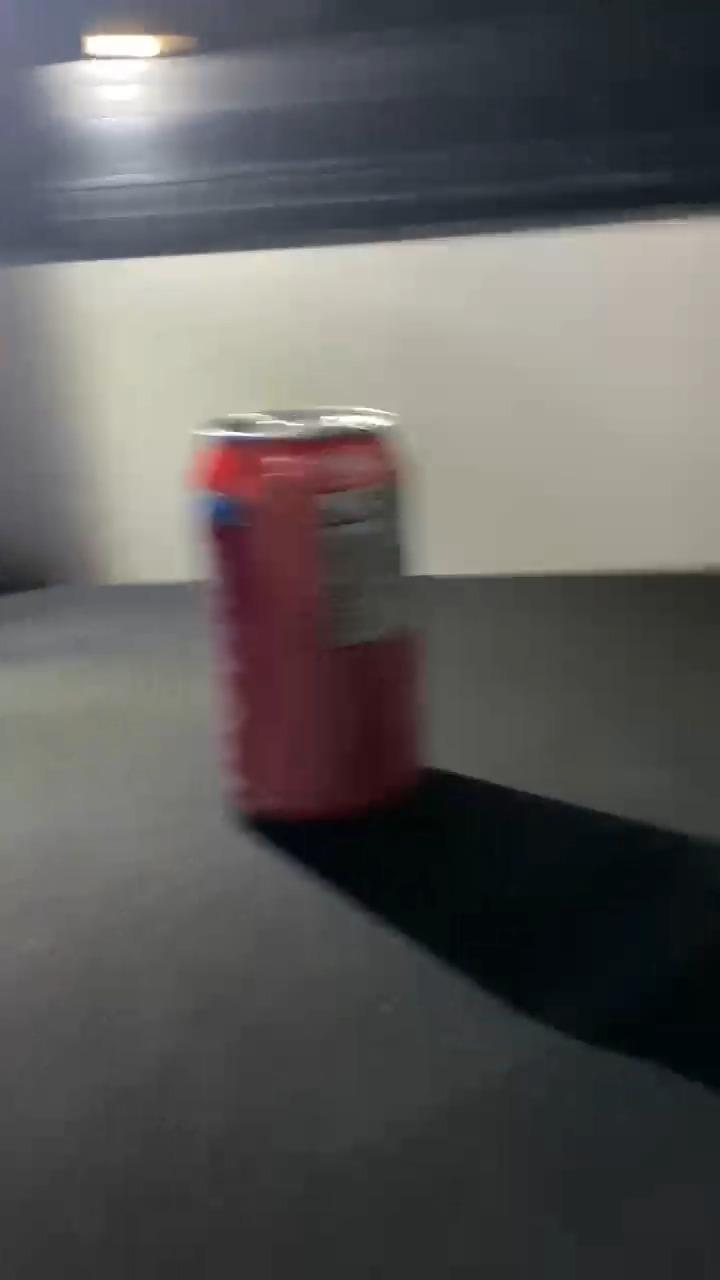coke: (188, 406, 425, 821)
